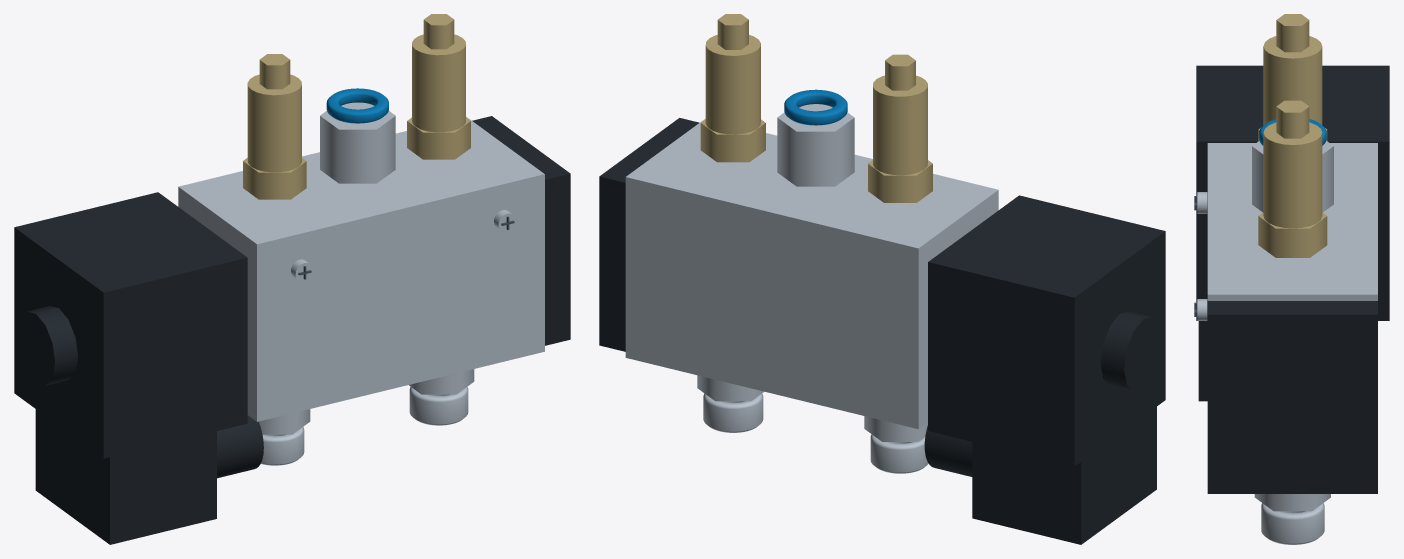
The model's file is pneumatic-solenoid-valve.glb.
3 views of the same model, side by side, from view 1: azimuth 30°, elevation 25°; view 2: azimuth 150°, elevation 25°; view 3: azimuth 270°, elevation 25° (orthographic). The views are drawn at different scales.
Parts seen in each view (by area): view 1: aluminium-valve-body, black-solenoid-coil, electrical-connector, brass-muffler (×2), end-cap, upper-fitting-hex, coil-retaining-nut, muffler-hex (×2), lower-push-fitting (×2), cable-gland, muffler-adjuster (×2), lower-fitting-hex (×2) (+1 smaller); view 2: aluminium-valve-body, black-solenoid-coil, electrical-connector, brass-muffler (×2), end-cap, upper-fitting-hex, coil-retaining-nut, muffler-hex (×2), lower-push-fitting (×2), lower-fitting-hex (×2), muffler-adjuster (×2), blue-push-collar (+1 smaller); view 3: end-cap, aluminium-valve-body, black-solenoid-coil, brass-muffler (×2), muffler-adjuster (×2), muffler-hex, lower-push-fitting, upper-fitting-hex, lower-fitting-hex, electrical-connector, blue-push-collar.
Part boxes in pixels (left/top/right/bottom): aluminium-valve-body: left=178, top=116, right=544, bottom=421; black-solenoid-coil: left=14, top=192, right=247, bottom=458; electrical-connector: left=35, top=409, right=216, bottom=544; brass-muffler (×2): left=247, top=34, right=465, bottom=172; end-cap: left=472, top=116, right=570, bottom=345; upper-fitting-hex: left=320, top=102, right=395, bottom=183; coil-retaining-nut: left=17, top=306, right=77, bottom=385; muffler-hex (×2): left=243, top=117, right=470, bottom=199; lower-push-fitting (×2): left=260, top=387, right=468, bottom=465; cable-gland: left=217, top=415, right=263, bottom=478; muffler-adjuster (×2): left=259, top=14, right=454, bottom=89; lower-fitting-hex (×2): left=259, top=369, right=474, bottom=434; aluminium-valve-body: left=625, top=118, right=998, bottom=429; black-solenoid-coil: left=928, top=195, right=1165, bottom=466; electrical-connector: left=972, top=406, right=1156, bottom=544; brass-muffler (×2): left=705, top=35, right=927, bottom=175; end-cap: left=599, top=118, right=699, bottom=351; upper-fitting-hex: left=777, top=104, right=854, bottom=186; coil-retaining-nut: left=1100, top=311, right=1162, bottom=392; muffler-hex (×2): left=700, top=119, right=932, bottom=202; lower-push-fitting (×2): left=703, top=393, right=928, bottom=473; lower-fitting-hex (×2): left=697, top=375, right=927, bottom=441; muffler-adjuster (×2): left=717, top=14, right=915, bottom=90; blue-push-collar: left=784, top=89, right=847, bottom=125; end-cap: left=1207, top=301, right=1377, bottom=493; aluminium-valve-body: left=1207, top=143, right=1377, bottom=300; black-solenoid-coil: left=1196, top=65, right=1389, bottom=320; brass-muffler (×2): left=1263, top=36, right=1322, bottom=228; muffler-adjuster (×2): left=1276, top=14, right=1309, bottom=138; muffler-hex: left=1258, top=212, right=1327, bottom=257; lower-push-fitting: left=1261, top=503, right=1324, bottom=544; upper-fitting-hex: left=1252, top=141, right=1333, bottom=212; lower-fitting-hex: left=1254, top=494, right=1330, bottom=511; electrical-connector: left=1198, top=321, right=1207, bottom=401; blue-push-collar: left=1259, top=119, right=1326, bottom=145.
Bounding box in the file's own units: 1.34 × 1.04 × 0.424.
